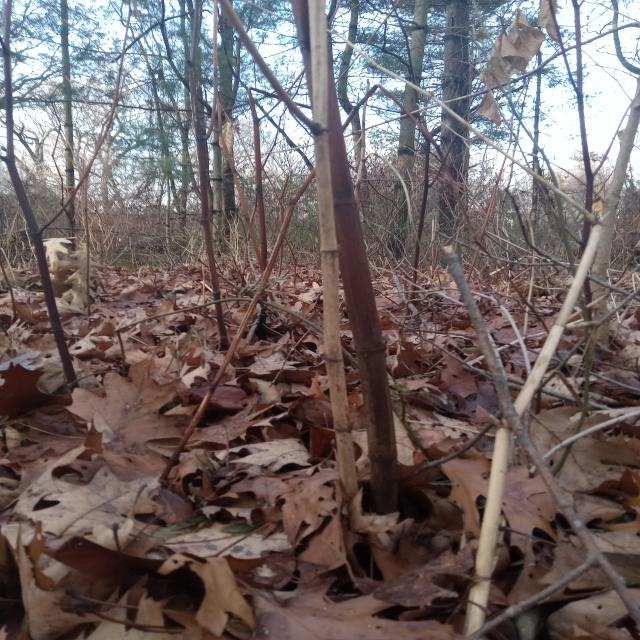knotweed-stems: (289, 1, 402, 521)
tree trunks: (436, 0, 474, 238)
